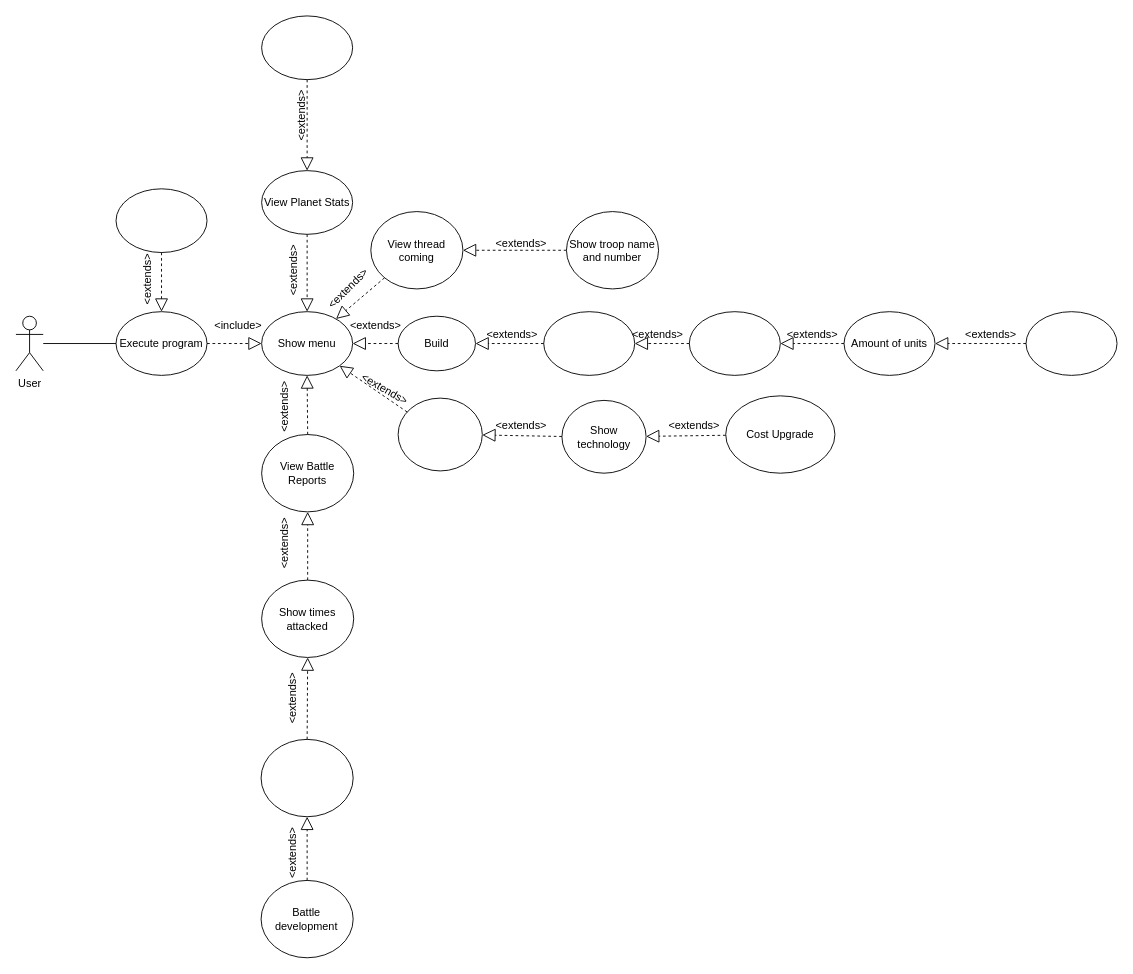
Some shapes in this 1133 by 974 pixel diagram are drawn without their labels. Each missing label, with the box of its shape:
Add x Units: (1025, 311, 1117, 375)
Automatic sign in: (115, 188, 207, 253)
Show Battle Stats: (260, 738, 353, 817)
Show build menu: (543, 311, 635, 375)
Show stats: (261, 15, 353, 80)
Show troops/defenses menu: (688, 311, 780, 375)
Upgrade Technology: (397, 397, 482, 471)
